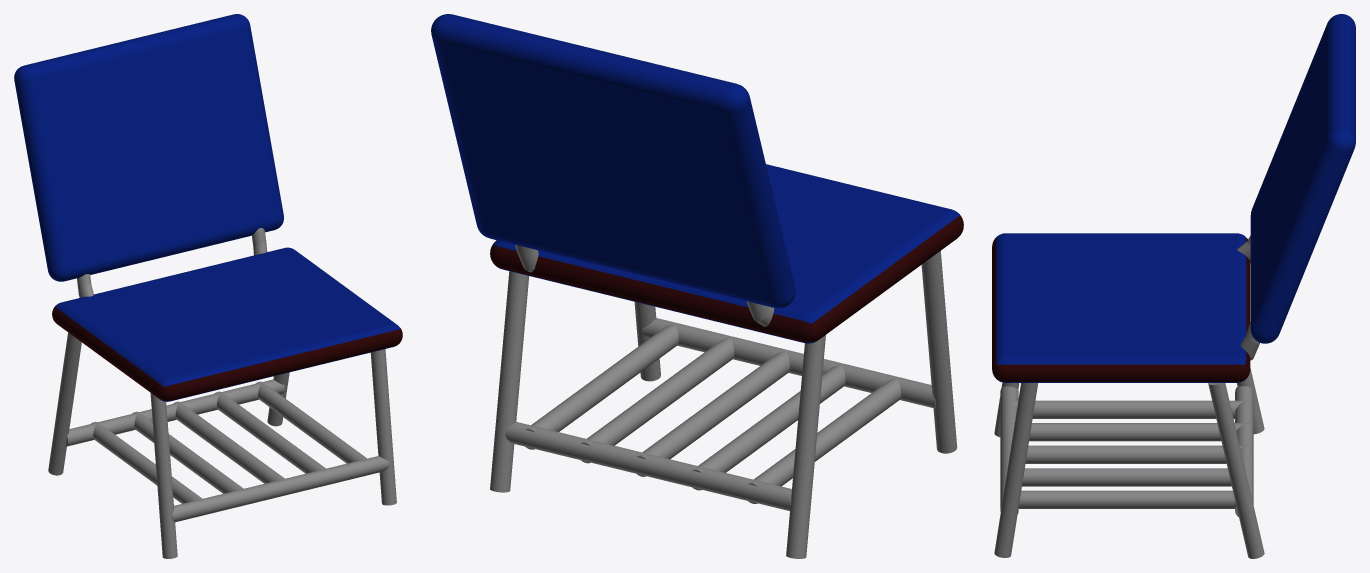
File: Silla 2.fbx
The picture shows the model from 3 angles, left to right: view 1: azimuth 30°, elevation 25°; view 2: azimuth 150°, elevation 25°; view 3: azimuth 270°, elevation 25°; orthographic projection. The views are drawn at different scales.
Visible parts, largest first — view 1: Cube.001, Cube, Cylinder.004, Cylinder.006, Cylinder.001, Cylinder.007, Cylinder, Cylinder.003; view 2: Cube.001, Cube, Cylinder.004, Cylinder.007, Cylinder.003, Cylinder.002, Cylinder.006, Cylinder.001, Cylinder; view 3: Cube, Cylinder.004, Cube.001, Cylinder.002, Cylinder, Cylinder.007, Cylinder.006, Cylinder.003.
Boxes of the visible parts, bbox=[...] form: Cube.001: bbox=[14, 14, 283, 281]; Cube: bbox=[52, 247, 402, 401]; Cylinder.004: bbox=[91, 381, 367, 503]; Cylinder.006: bbox=[172, 456, 389, 522]; Cylinder.001: bbox=[150, 392, 177, 558]; Cylinder.007: bbox=[65, 379, 284, 446]; Cylinder: bbox=[370, 349, 396, 505]; Cylinder.003: bbox=[48, 332, 81, 475]; Cube.001: bbox=[431, 14, 795, 308]; Cube: bbox=[490, 164, 963, 343]; Cylinder.004: bbox=[525, 322, 901, 503]; Cylinder.007: bbox=[505, 422, 791, 510]; Cylinder.003: bbox=[786, 335, 825, 558]; Cylinder.002: bbox=[490, 271, 529, 492]; Cylinder.006: bbox=[642, 318, 936, 408]; Cylinder.001: bbox=[921, 251, 957, 453]; Cylinder: bbox=[634, 302, 660, 381]; Cube: bbox=[992, 233, 1250, 382]; Cylinder.004: bbox=[1007, 400, 1249, 508]; Cube.001: bbox=[1250, 14, 1355, 343]; Cylinder.002: bbox=[1208, 383, 1264, 558]; Cylinder: bbox=[994, 383, 1037, 557]; Cylinder.007: bbox=[1235, 386, 1253, 516]; Cylinder.006: bbox=[1000, 386, 1018, 513]; Cylinder.003: bbox=[1237, 368, 1264, 434].
Bounding box in the file's own units: 245 × 364 × 282.
